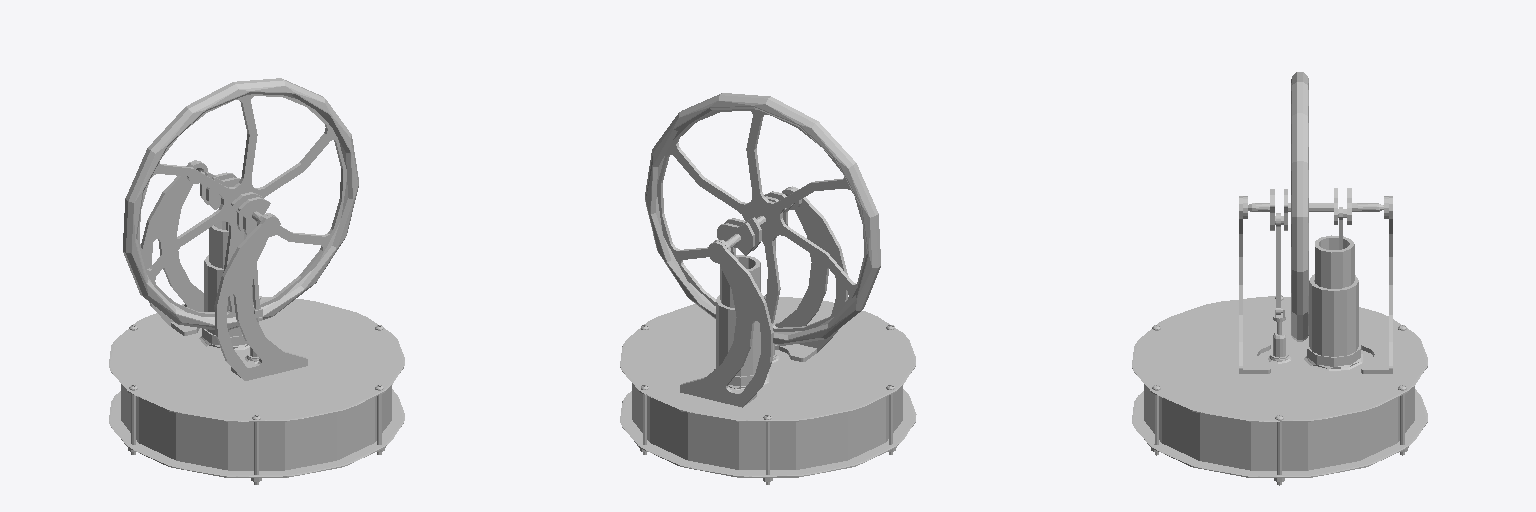
The model's file is stirling engine.obj.
3 views of the same model, side by side, from view 1: azimuth 30°, elevation 25°; view 2: azimuth 150°, elevation 25°; view 3: azimuth 270°, elevation 25° (orthographic).
Parts seen in each view (by area): view 1: Solid1:15, Solid1:23, Solid1, Solid1:14, Solid1:20, Solid1:1, Solid1:24, Solid1:19, Solid1:25; view 2: Solid1:15, Solid1:23, Solid1, Solid1:20, Solid1:14, Solid1:1, Solid1:19, Solid1:24, Solid1:25; view 3: Solid1:15, Solid1, Solid1:23, Solid1:19, Solid1:1, Solid1:25, Solid1:20, Solid1:14, Solid1:24.
Boxes of the visible parts, box(x1,y1,x2,y2) form: Solid1:15: box(109, 296, 404, 421); Solid1:23: box(123, 78, 358, 329); Solid1: box(121, 384, 391, 470); Solid1:14: box(214, 215, 307, 380); Solid1:20: box(141, 160, 203, 335); Solid1:1: box(109, 389, 404, 477); Solid1:24: box(200, 171, 270, 235); Solid1:19: box(204, 255, 253, 336); Solid1:25: box(209, 221, 246, 268); Solid1:15: box(620, 296, 915, 421); Solid1:23: box(645, 93, 880, 345); Solid1: box(632, 383, 902, 469); Solid1:20: box(680, 241, 773, 407); Solid1:14: box(775, 186, 847, 361); Solid1:1: box(620, 389, 916, 477); Solid1:19: box(716, 295, 765, 376); Solid1:24: box(717, 191, 793, 255); Solid1:25: box(720, 255, 760, 307); Solid1:15: box(1132, 296, 1427, 421); Solid1: box(1144, 384, 1414, 470); Solid1:23: box(1291, 72, 1308, 341); Solid1:19: box(1309, 274, 1358, 356); Solid1:1: box(1132, 389, 1427, 477); Solid1:25: box(1315, 235, 1354, 288); Solid1:20: box(1361, 196, 1392, 373); Solid1:14: box(1239, 196, 1270, 373); Solid1:24: box(1248, 188, 1383, 230).
Size of the model in its own units: 4.08 by 5.12 by 4.08.